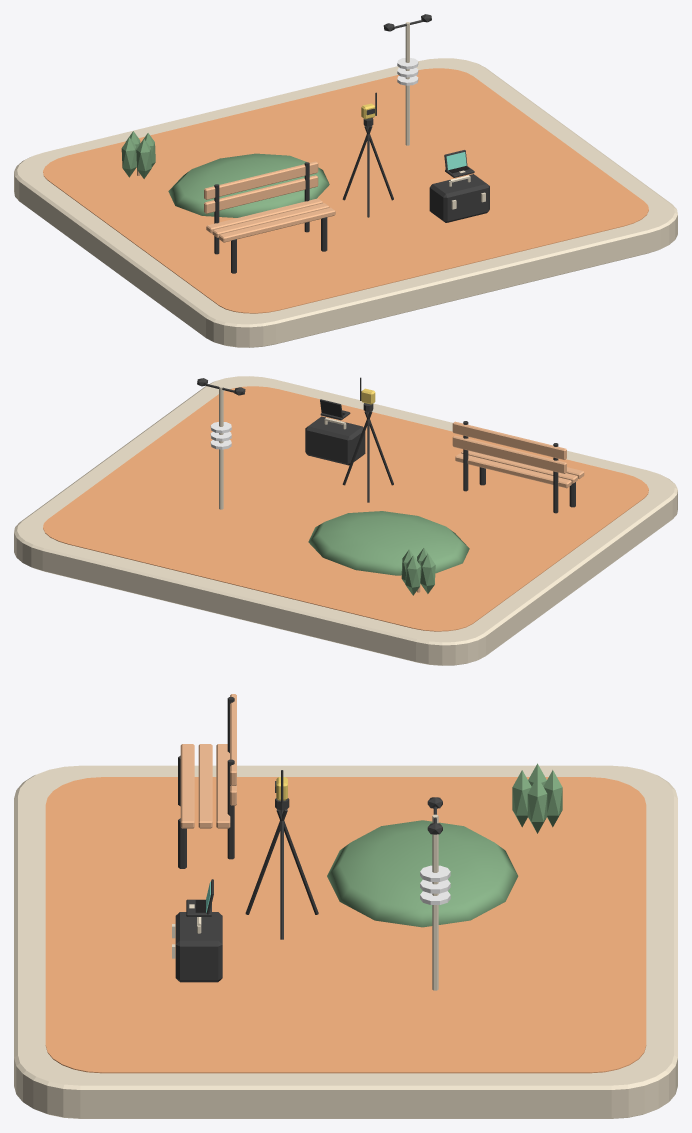
The picture shows the model from 3 angles, top to bottom: view 1: azimuth 30°, elevation 25°; view 2: azimuth 150°, elevation 25°; view 3: azimuth 270°, elevation 25°; orthographic projection. The views are drawn at different scales.
Visible parts, largest first — view 1: COM-02 Floor Surface, COM-01 Rounded Base Direct, Low terrain, Case, Back slat, Back slat.001, Seat slat, Seat slat.001, Seat slat.002, Mast; view 2: COM-02 Floor Surface, COM-01 Rounded Base Direct, Low terrain, Case, Back slat, Back slat.001, Seat slat.002, Seat slat.001, Mast, Leaf.001, Leaf.002; view 3: COM-02 Floor Surface, COM-01 Rounded Base Direct, Low terrain, Case, Seat slat, Seat slat.001, Seat slat.002, Mast, Leaf, Leaf.003, Leaf.001.
Boxes of the visible parts, x1,y1,x2,y2 form: COM-02 Floor Surface: (43, 68, 648, 313); COM-01 Rounded Base Direct: (14, 58, 677, 347); Low terrain: (168, 153, 329, 217); Case: (429, 174, 489, 222); Back slat: (204, 175, 318, 213); Back slat.001: (204, 161, 318, 199); Seat slat: (219, 207, 335, 242); Seat slat.001: (212, 203, 329, 237); Seat slat.002: (206, 198, 322, 233); Mast: (405, 22, 409, 145); COM-02 Floor Surface: (43, 386, 648, 631); COM-01 Rounded Base Direct: (14, 376, 677, 665); Low terrain: (308, 511, 469, 575); Case: (305, 416, 365, 465); Back slat: (452, 435, 566, 473); Back slat.001: (452, 421, 566, 459); Seat slat.002: (455, 453, 571, 488); Seat slat.001: (461, 450, 577, 483); Mast: (219, 386, 223, 509); Leaf.001: (405, 555, 420, 595); Leaf.002: (420, 554, 435, 593); COM-02 Floor Surface: (45, 777, 646, 1073); COM-01 Rounded Base Direct: (14, 765, 677, 1118); Low terrain: (327, 820, 518, 927); Case: (175, 912, 222, 982); Seat slat: (180, 744, 194, 828); Seat slat.001: (198, 744, 212, 828); Seat slat.002: (216, 744, 230, 828); Mast: (432, 814, 438, 990); Leaf: (527, 776, 547, 833); Leaf.003: (512, 770, 531, 827); Leaf.001: (543, 770, 562, 827).
Bounding box in the file's own units: 6 × 1.85 × 5.2.
Materials: 1 (1 with a texture image).
